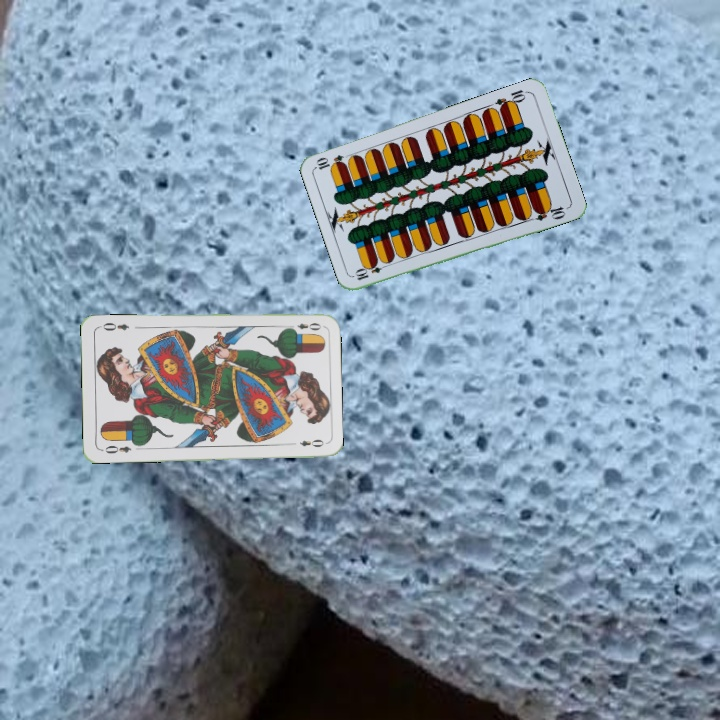E10: (491, 85, 531, 113), (351, 259, 391, 283)
EO: (284, 319, 323, 334), (98, 441, 134, 456)
